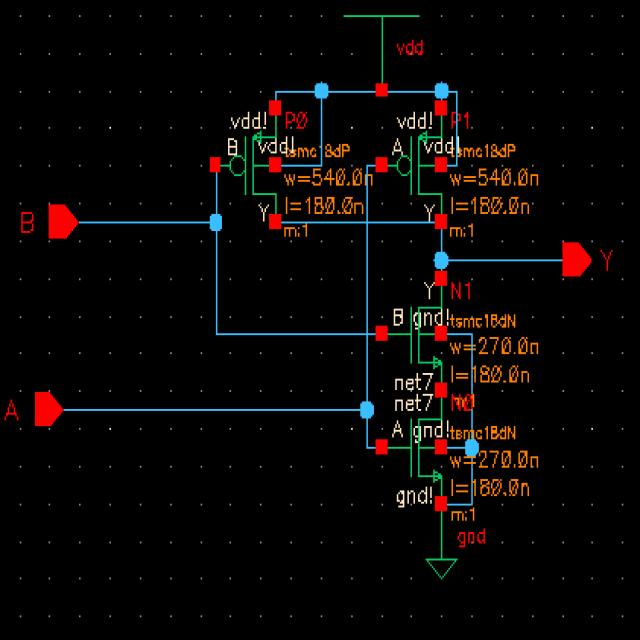nmos: (379, 274, 450, 398), (376, 396, 448, 517)
pmos: (217, 99, 284, 232), (380, 101, 450, 226)
